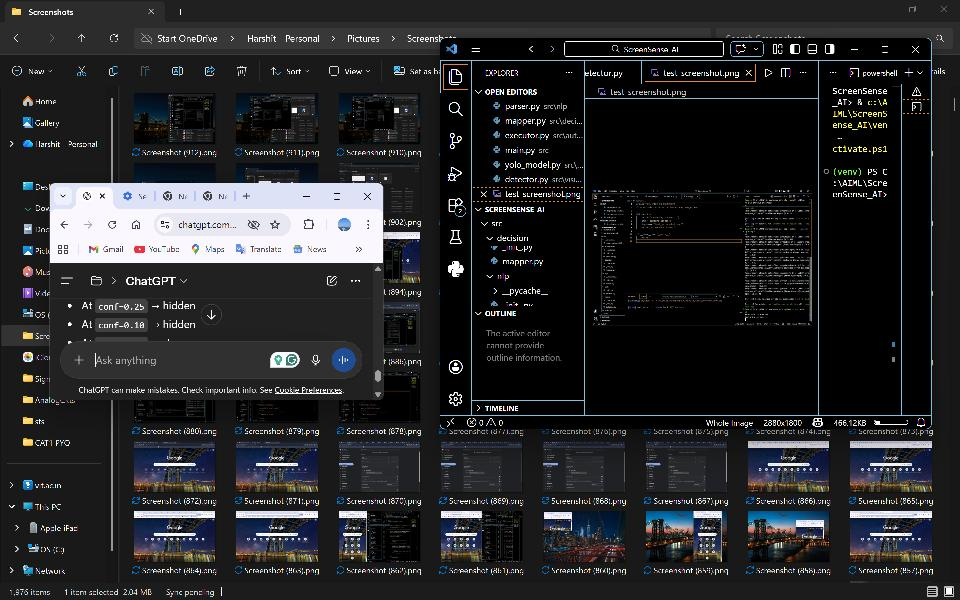close_button: (356, 185, 378, 207), (905, 41, 927, 57), (934, 2, 954, 17)
maximize_button: (326, 185, 349, 208), (875, 40, 897, 56), (905, 1, 922, 17)
minimize_button: (296, 185, 319, 208), (846, 40, 865, 57), (874, 1, 892, 17)
